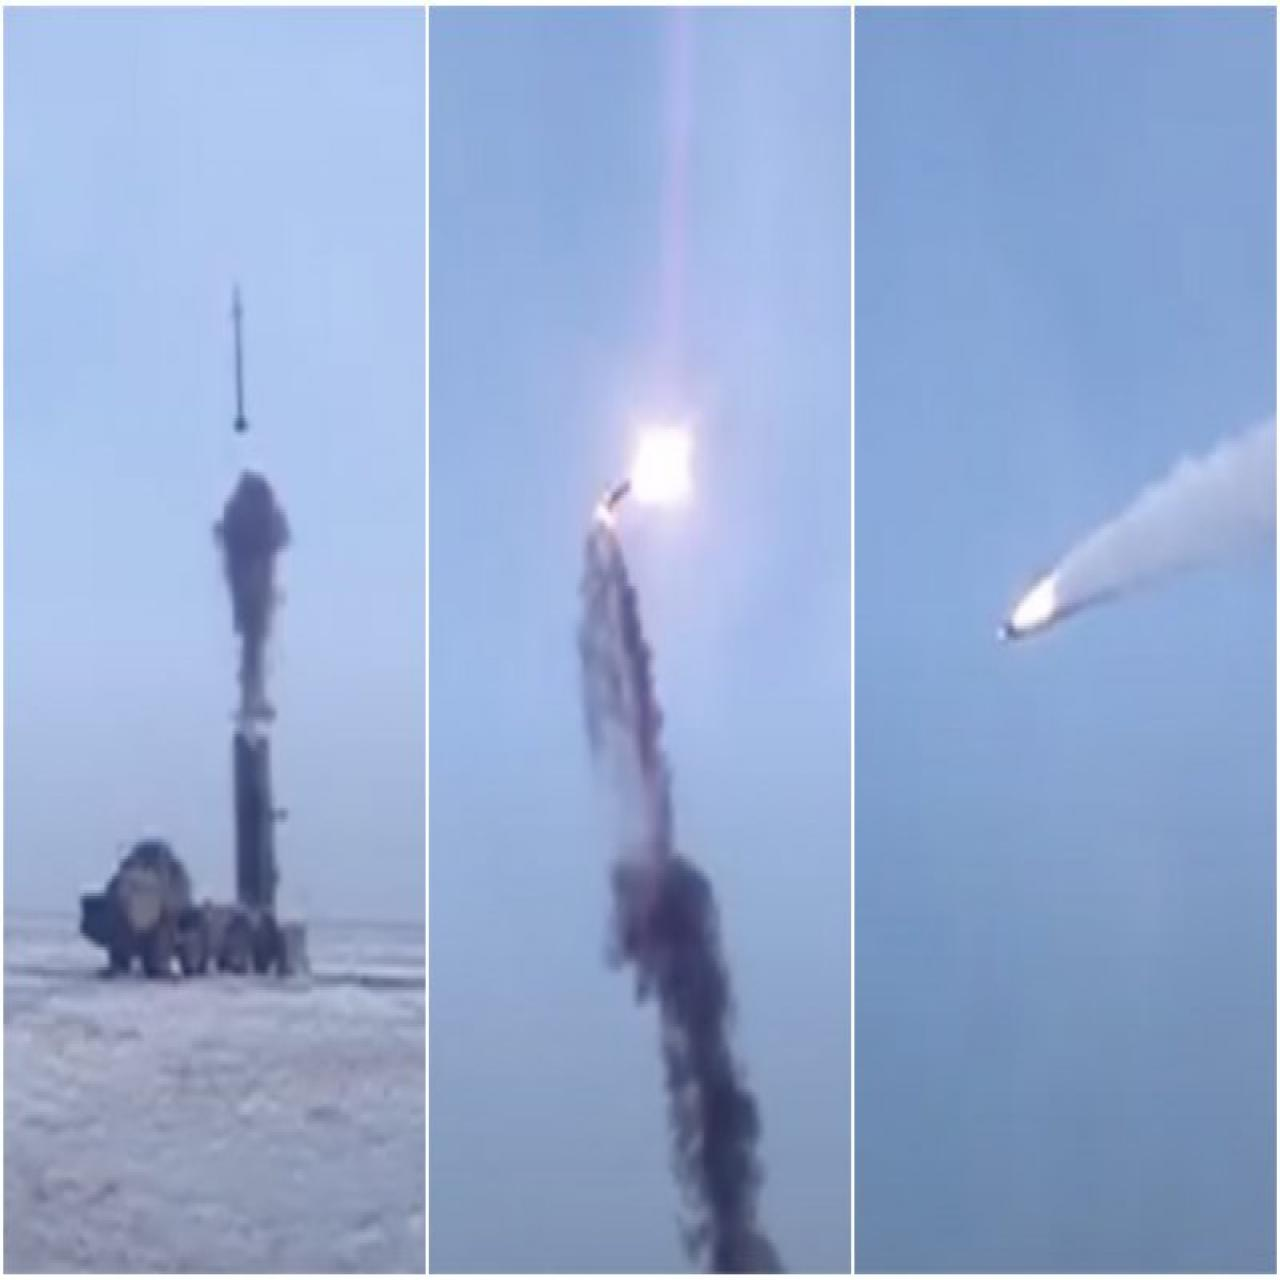MIL_Veh: (80, 734, 318, 992)
